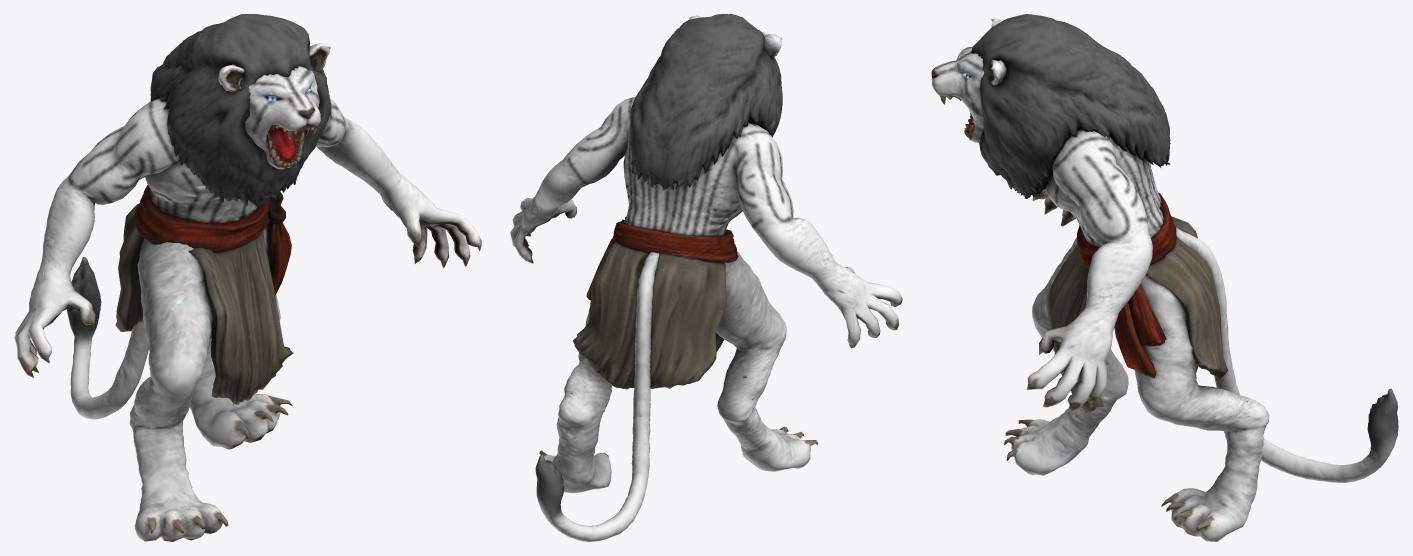
Rendered from MZ4250 - Zimwi1.glb.
3 renders of one model, left to right at view 1: azimuth 30°, elevation 25°; view 2: azimuth 150°, elevation 25°; view 3: azimuth 270°, elevation 25°, orthographic. The views are drawn at different scales.
Visible parts, largest first — view 1: Body.002; view 2: Body.002; view 3: Body.002.
Boxes of the visible parts, <box> form: Body.002: <box>14,14,481,541</box>; Body.002: <box>510,14,902,541</box>; Body.002: <box>931,14,1398,541</box>.
Bounding box in the file's own units: 65.92 × 69.88 × 62.71.
Materials: 1 (1 with a texture image).
